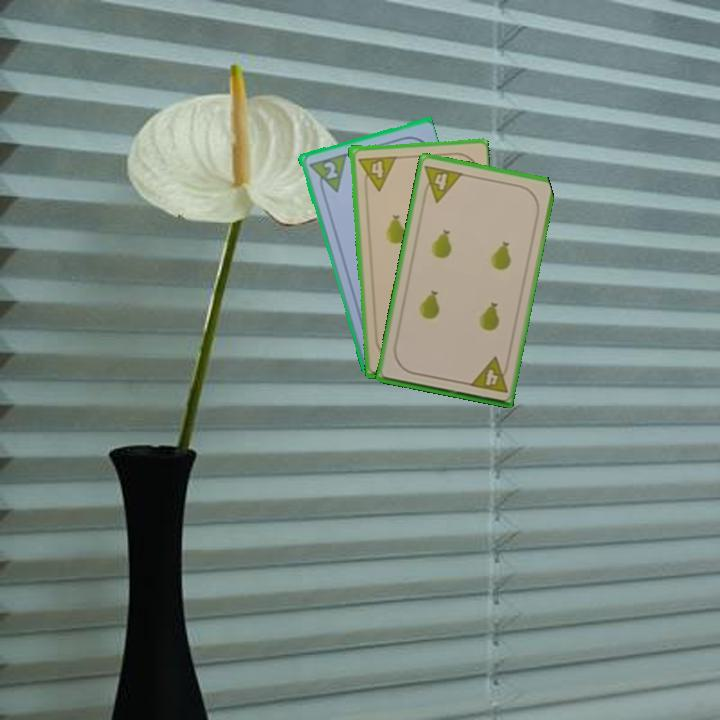2p: (320, 158, 340, 182)
4p: (419, 161, 466, 205), (466, 354, 512, 396), (354, 152, 398, 193)
